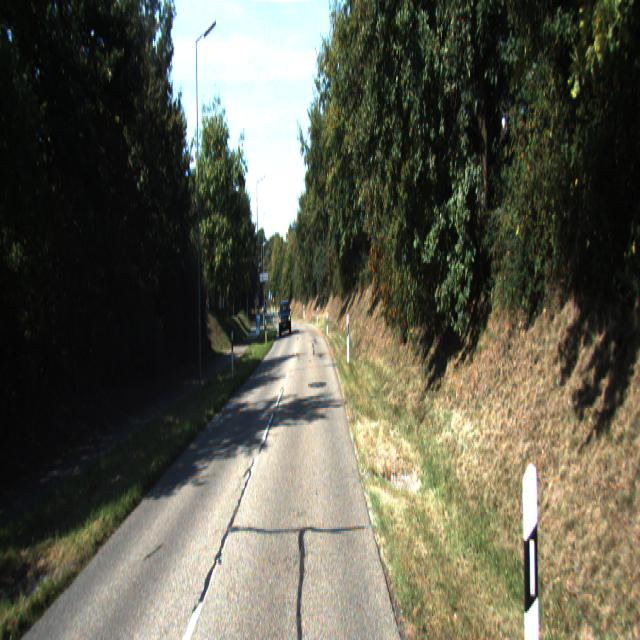Car: (278, 299, 292, 343)
